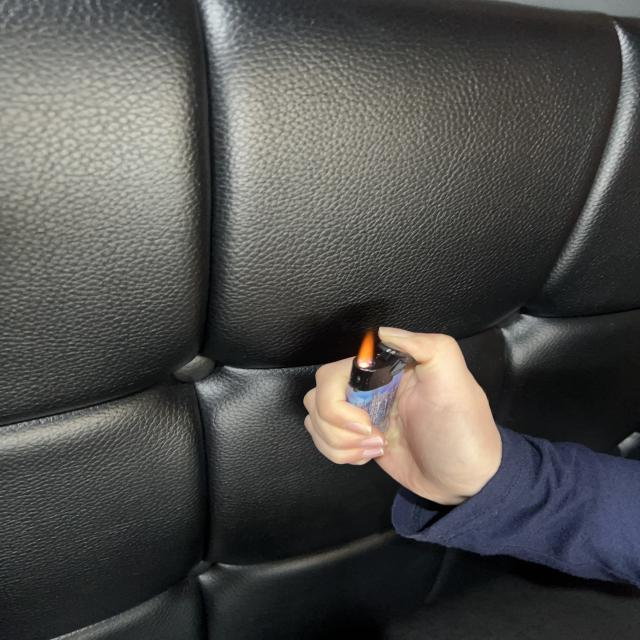fire: (357, 328, 378, 371)
